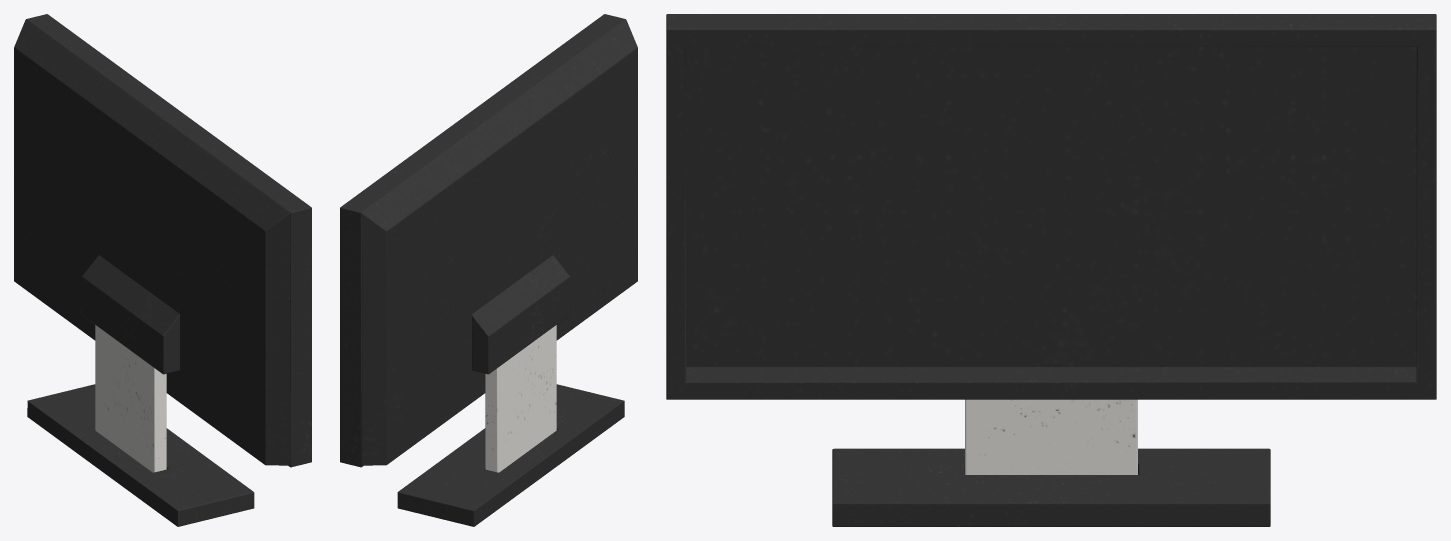
3 views of the same model, side by side, from view 1: azimuth 30°, elevation 25°; view 2: azimuth 150°, elevation 25°; view 3: azimuth 270°, elevation 25° (orthographic). The views are drawn at different scales.
Visible parts, largest first — view 1: tv; view 2: tv; view 3: tv.
Part boxes in pixels (<box>): tv: <box>14,14,311,526</box>; tv: <box>340,14,637,526</box>; tv: <box>666,14,1436,526</box>.
Bounding box in the file's own units: 0.7101 × 3 × 4.2.
Materials: 2 (2 with a texture image).
